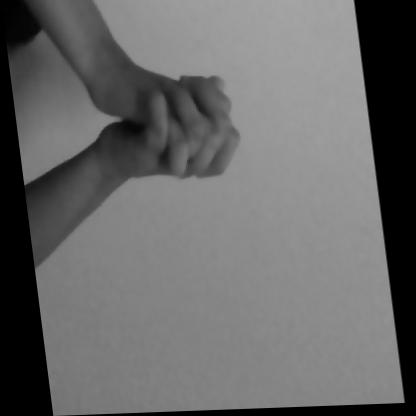prayer: (74, 52, 252, 219)
